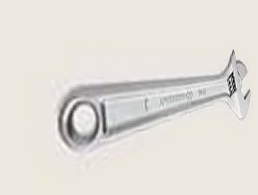Wrench: (53, 55, 258, 150)
